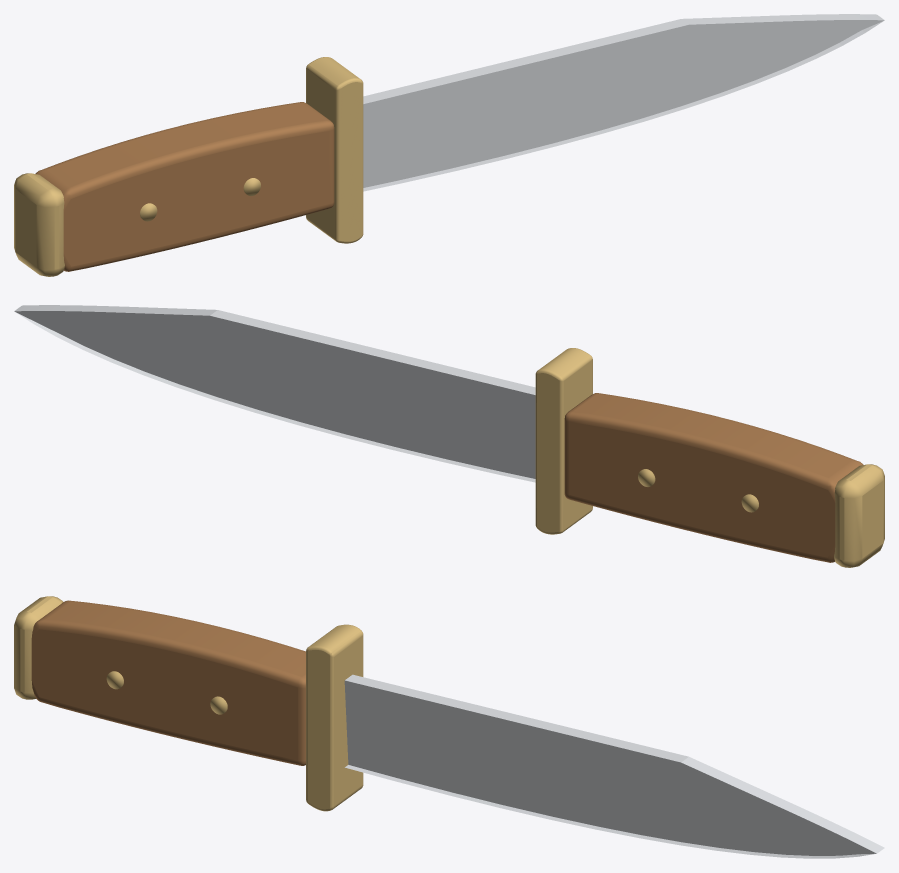
Rendered from knife_bowie.glb.
The picture shows the model from 3 angles, top to bottom: view 1: azimuth 30°, elevation 25°; view 2: azimuth 150°, elevation 25°; view 3: azimuth 330°, elevation 25°; orthographic projection.
Parts seen in each view (by area): view 1: lod_skin_blade, lod_detail_wood, lod_detail_brass; view 2: lod_skin_blade, lod_detail_wood, lod_detail_brass; view 3: lod_skin_blade, lod_detail_wood, lod_detail_brass.
Part boxes in pixels (x1,y1,x2,y2): lod_skin_blade: (363,14,884,191); lod_detail_wood: (35,102,334,271); lod_detail_brass: (14,57,363,276); lod_skin_blade: (14,305,535,482); lod_detail_wood: (564,393,863,562); lod_detail_brass: (535,348,884,567); lod_skin_blade: (344,674,884,858); lod_detail_wood: (31,600,305,765); lod_detail_brass: (14,596,363,811).
Bounding box in the file's own units: 0.371 × 0.068 × 0.026.
